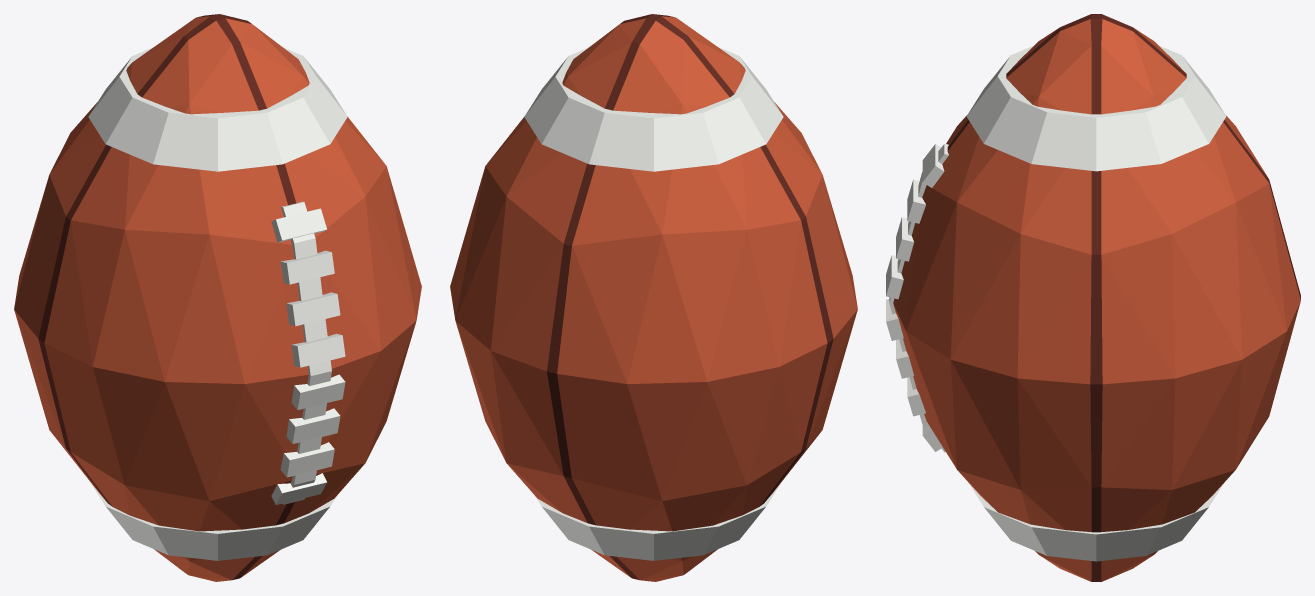
Rendered from americanfootballA.FBX.
3 renders of one model, left to right at view 1: azimuth 30°, elevation 25°; view 2: azimuth 150°, elevation 25°; view 3: azimuth 270°, elevation 25°, orthographic.
Visible parts, largest first — view 1: americanfootballA; view 2: americanfootballA; view 3: americanfootballA.
Boxes of the visible parts, left/top/right/bottom form: americanfootballA: left=14, top=14, right=421, bottom=581; americanfootballA: left=450, top=14, right=857, bottom=581; americanfootballA: left=886, top=14, right=1300, bottom=581.
Bounding box in the file's own units: 4.79 × 7.27 × 4.86.
